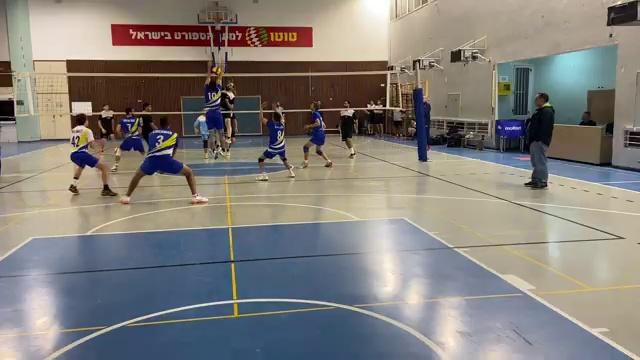ball: (212, 64, 224, 77)
